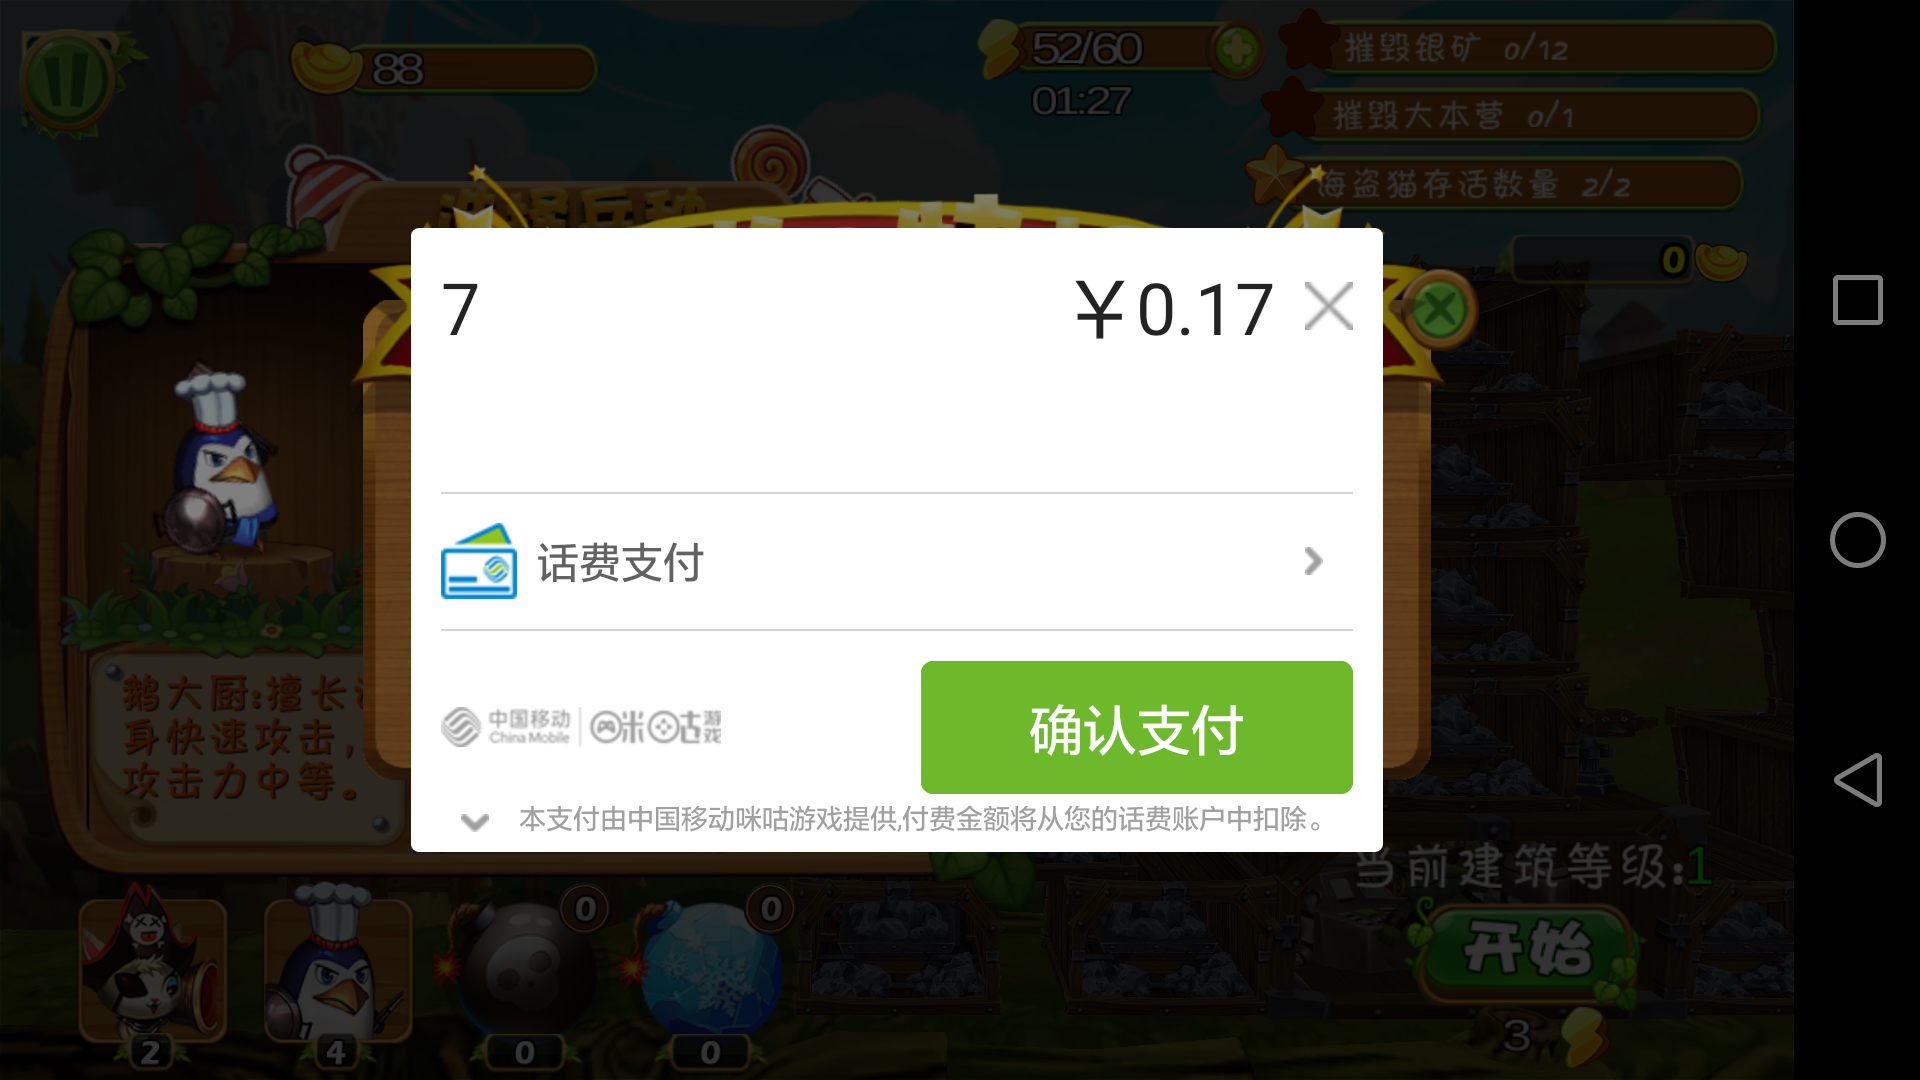alert: (406, 211, 1391, 864)
button: (907, 647, 1360, 804)
